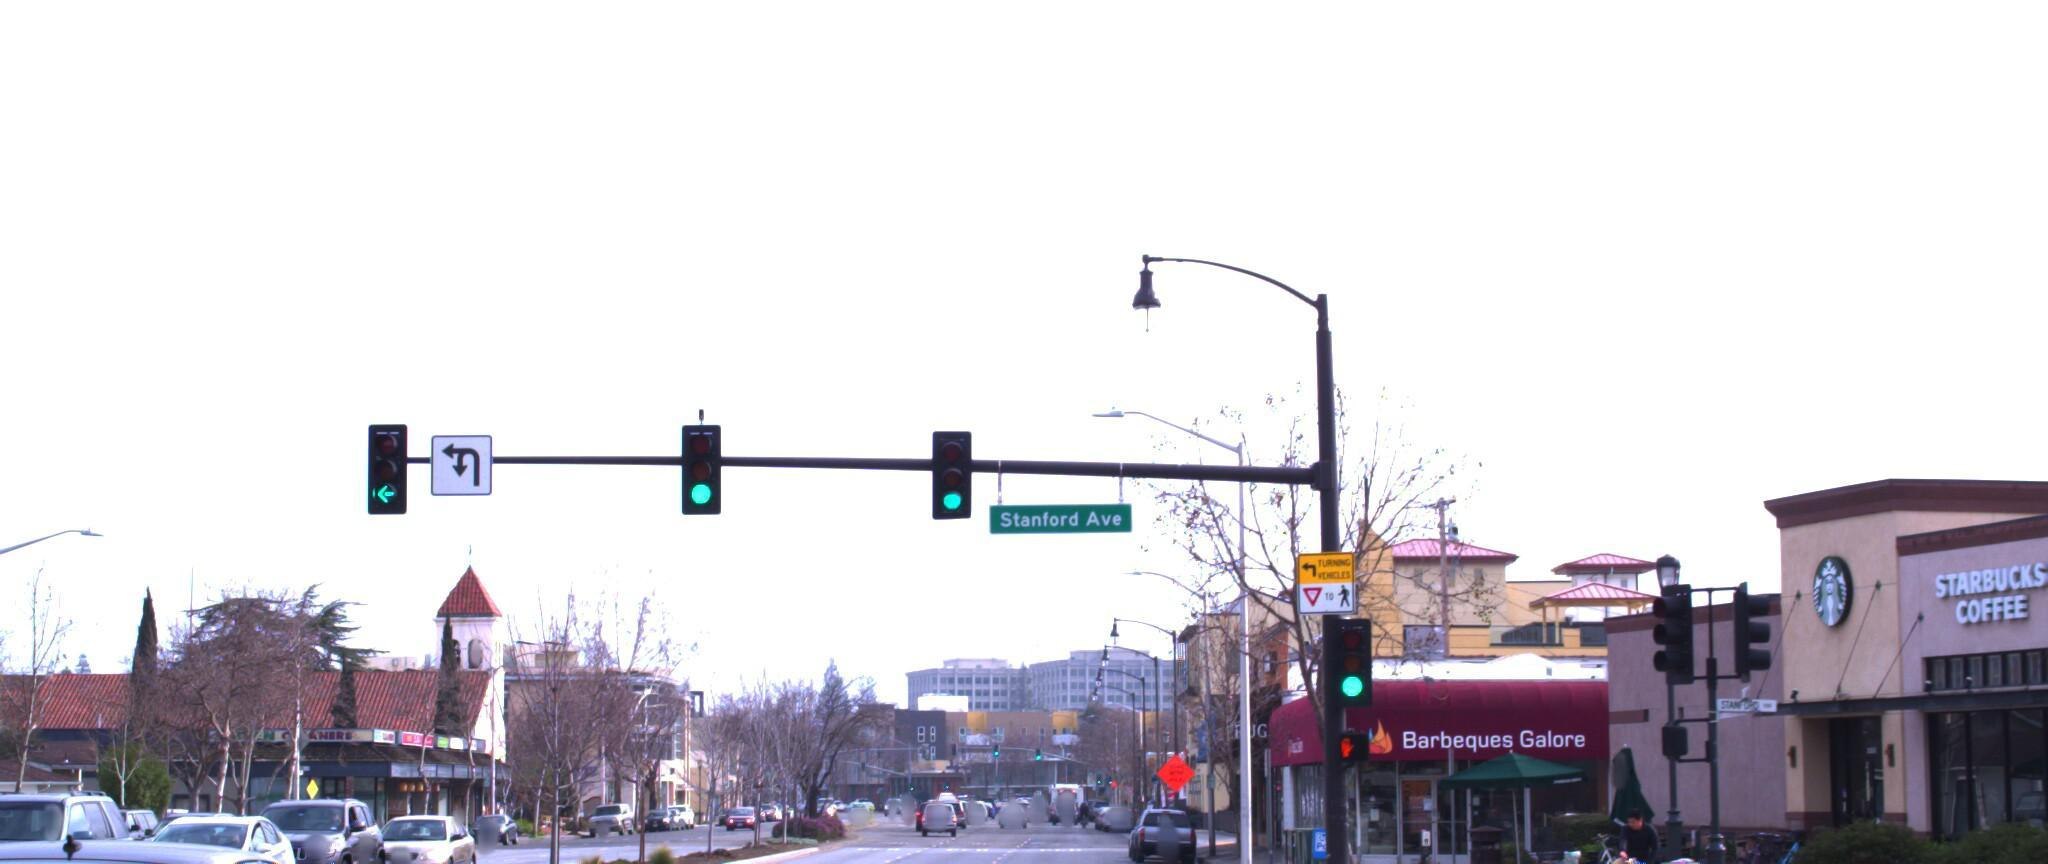bicycle: (1579, 790, 1697, 864), (1509, 812, 1647, 864)
car: (0, 795, 448, 864), (0, 764, 159, 864), (219, 777, 398, 864), (110, 790, 310, 864), (1949, 790, 2048, 864)
